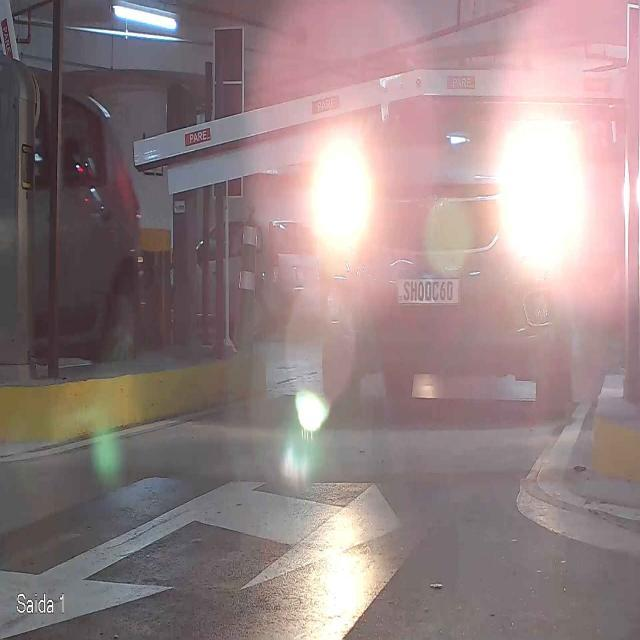mercosul_plate: (394, 269, 465, 307)
